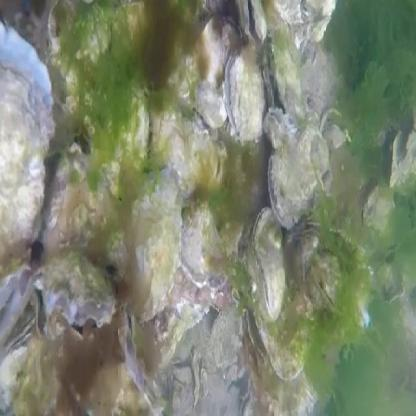3: (243, 242, 314, 378), (267, 126, 324, 227), (117, 305, 162, 408), (253, 206, 286, 323), (224, 50, 266, 141), (180, 202, 224, 287), (265, 39, 301, 121), (0, 263, 34, 345), (391, 105, 416, 196), (235, 0, 266, 48), (264, 109, 296, 148), (6, 313, 35, 352), (212, 156, 223, 186)
Oyster-Closed: (365, 181, 394, 230)
Oyster-Open: (0, 24, 54, 256), (129, 167, 182, 320), (247, 335, 322, 416), (34, 251, 114, 325), (195, 84, 228, 127), (323, 128, 345, 148)
